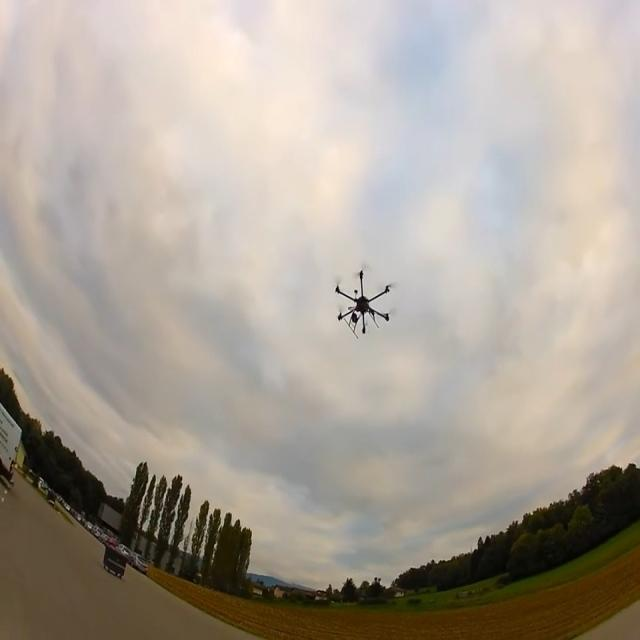drone: (334, 268, 393, 338)
